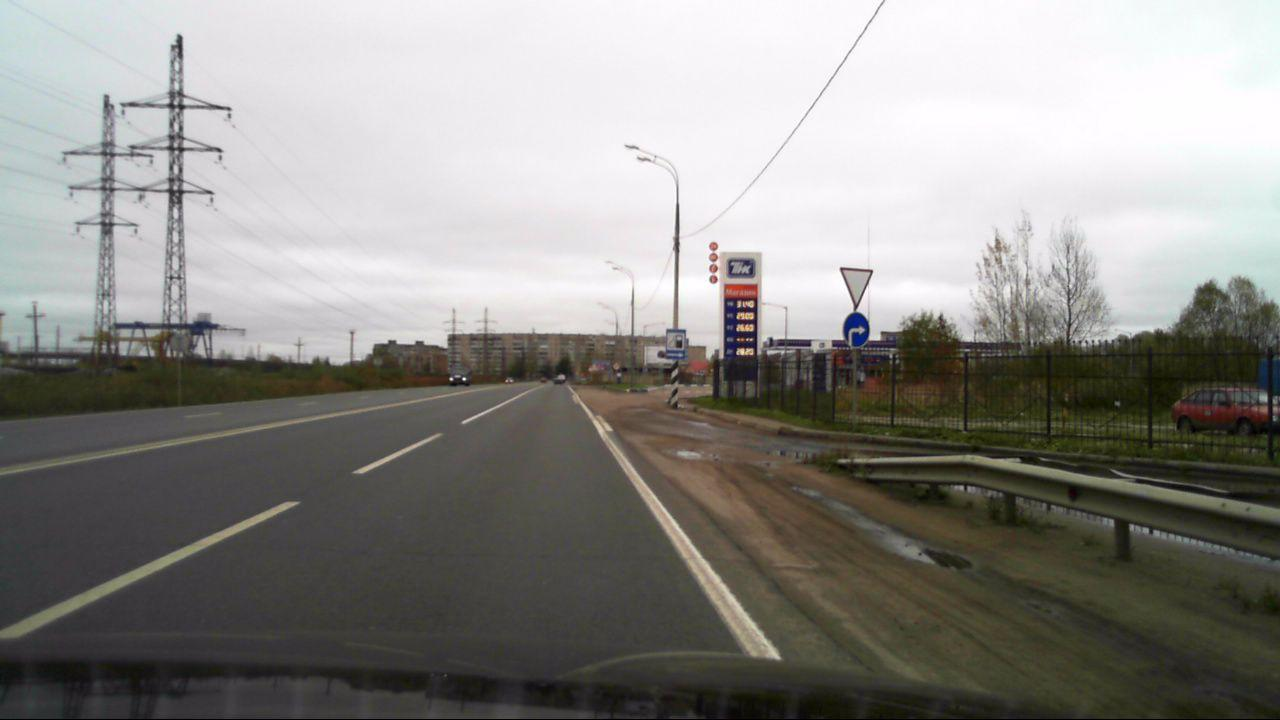2_4: (841, 266, 873, 310)
4_1_2: (842, 312, 871, 348)
7_3: (664, 328, 686, 359)
